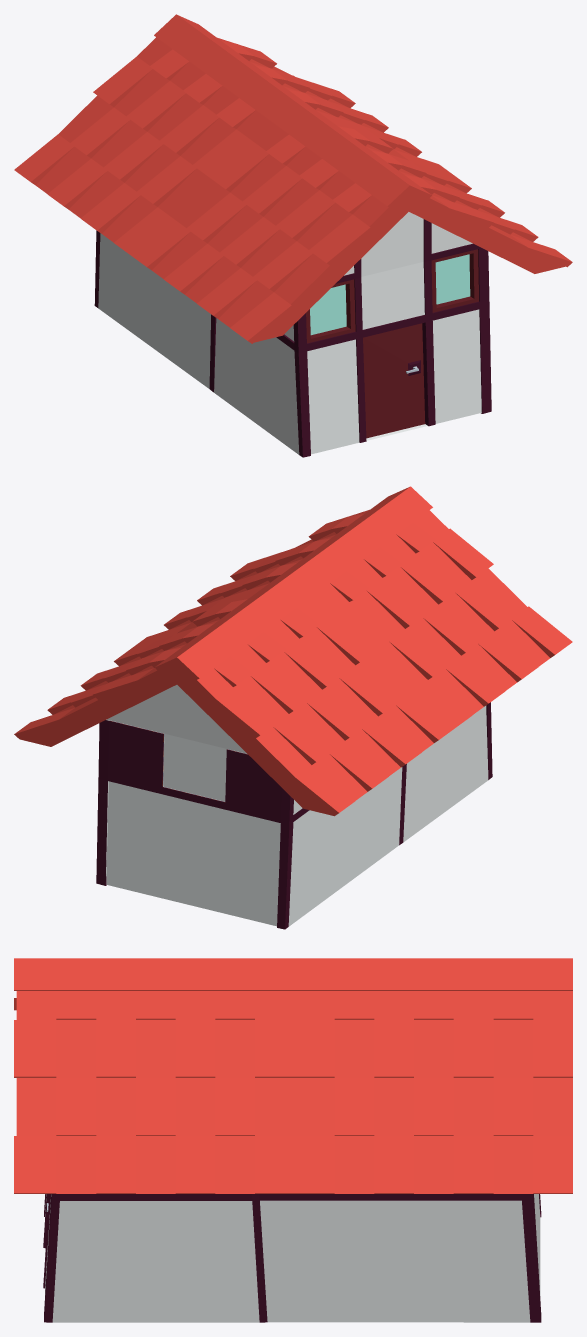
Rendered from Casa2_Berço.fbx.
3 renders of one model, top to bottom at view 1: azimuth 30°, elevation 25°; view 2: azimuth 150°, elevation 25°; view 3: azimuth 270°, elevation 25°, orthographic. The views are drawn at different scales.
Visible parts, largest first — view 1: Casa2; view 2: Casa2; view 3: Casa2.
Part boxes in pixels (bbox=[...]): Casa2: bbox=[14, 14, 572, 457]; Casa2: bbox=[14, 486, 572, 929]; Casa2: bbox=[14, 958, 572, 1322].
Bounding box in the file's own units: 10.86 × 8.26 × 13.51.
